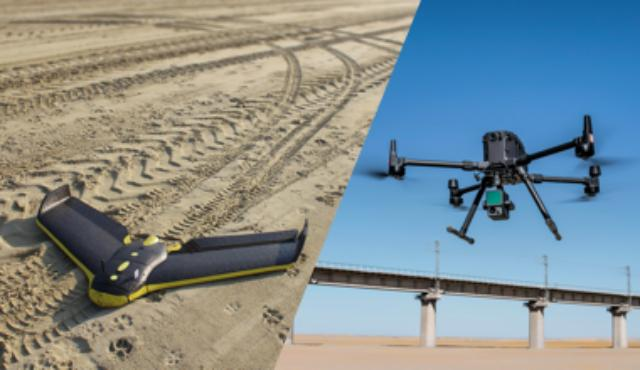drone: (378, 115, 606, 246)
